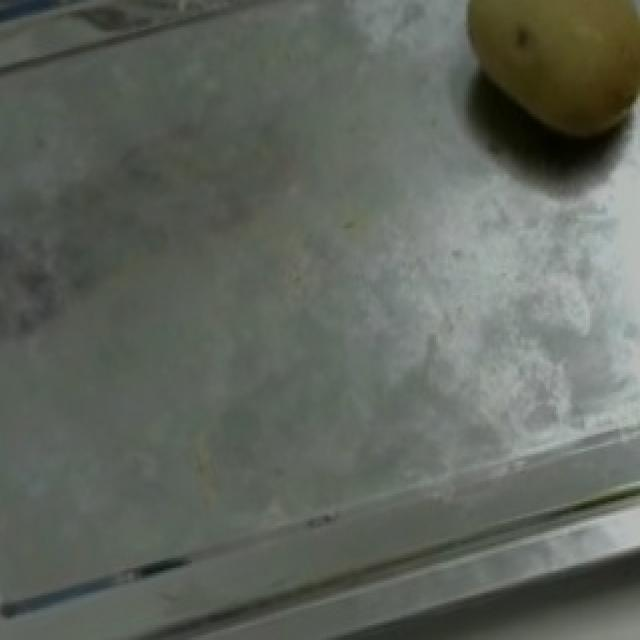Fruit: (428, 0, 640, 161)
